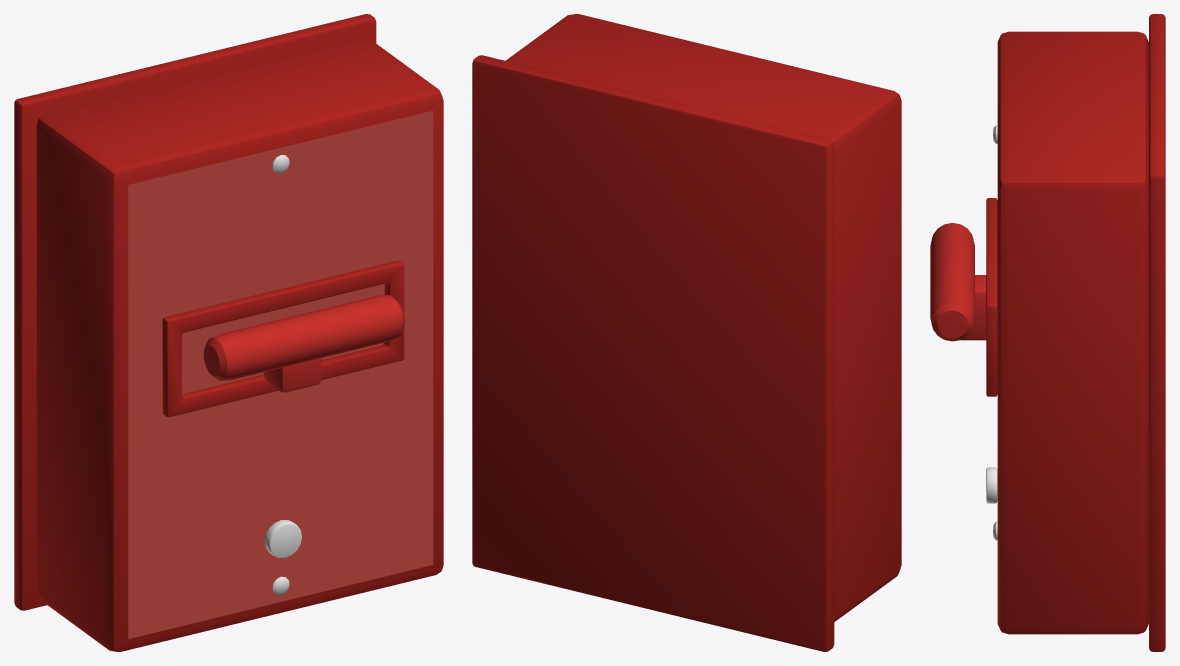
Rendered from Kit_PullStation.fbx.
The picture shows the model from 3 angles, left to right: view 1: azimuth 30°, elevation 25°; view 2: azimuth 150°, elevation 25°; view 3: azimuth 270°, elevation 25°; orthographic projection. The views are drawn at different scales.
Visible parts, largest first — view 1: Kit_PullStation_LOD0; view 2: Kit_PullStation_LOD0; view 3: Kit_PullStation_LOD0.
Part boxes in pixels (x1,y1,x2,y2): Kit_PullStation_LOD0: [14, 14, 443, 651]; Kit_PullStation_LOD0: [472, 14, 901, 651]; Kit_PullStation_LOD0: [930, 14, 1165, 651].
Size of what is drawn, in the model's own units: 0.138 by 0.188 by 0.084.
